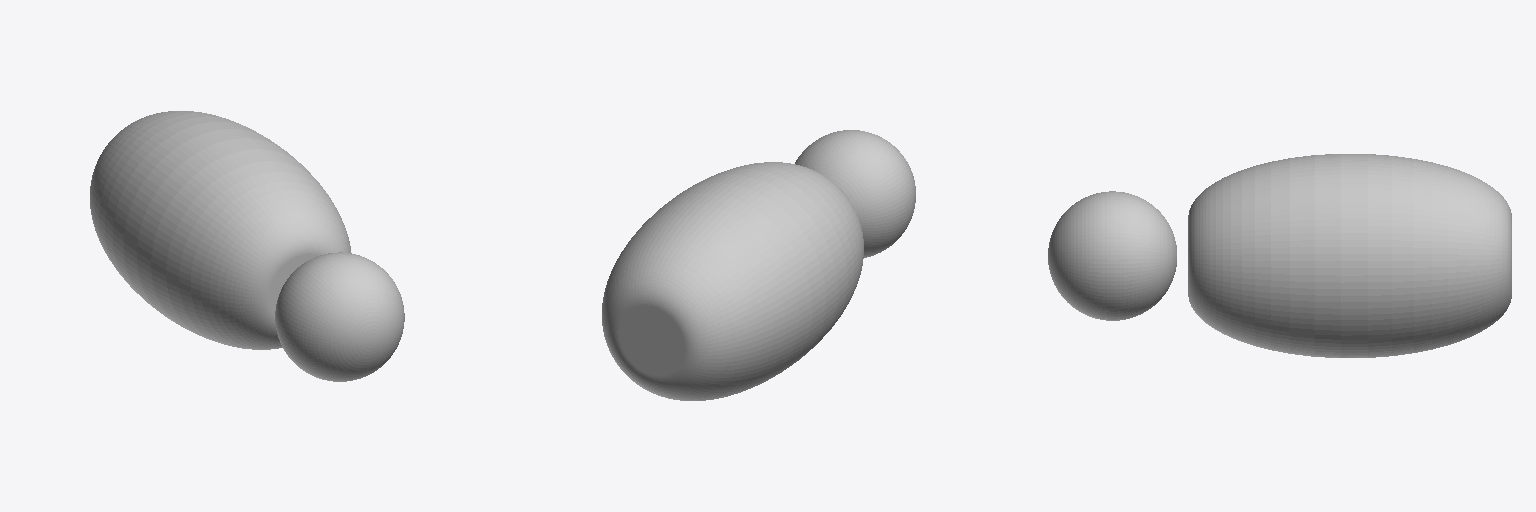
The model's file is person.obj.
The picture shows the model from 3 angles: view 1: azimuth 30°, elevation 25°; view 2: azimuth 150°, elevation 25°; view 3: azimuth 270°, elevation 25°; orthographic projection.
Visible parts, largest first — view 1: ___02, ___01; view 2: ___02, ___01; view 3: ___02, ___01.
Boxes of the visible parts, <box> form: ___02: <box>90,111,351,349</box>; ___01: <box>275,252,404,381</box>; ___02: <box>602,162,863,400</box>; ___01: <box>795,130,915,257</box>; ___02: <box>1188,154,1511,357</box>; ___01: <box>1048,191,1176,320</box>.
Bounding box in the file's own units: 0.0379 × 0.038 × 0.086.